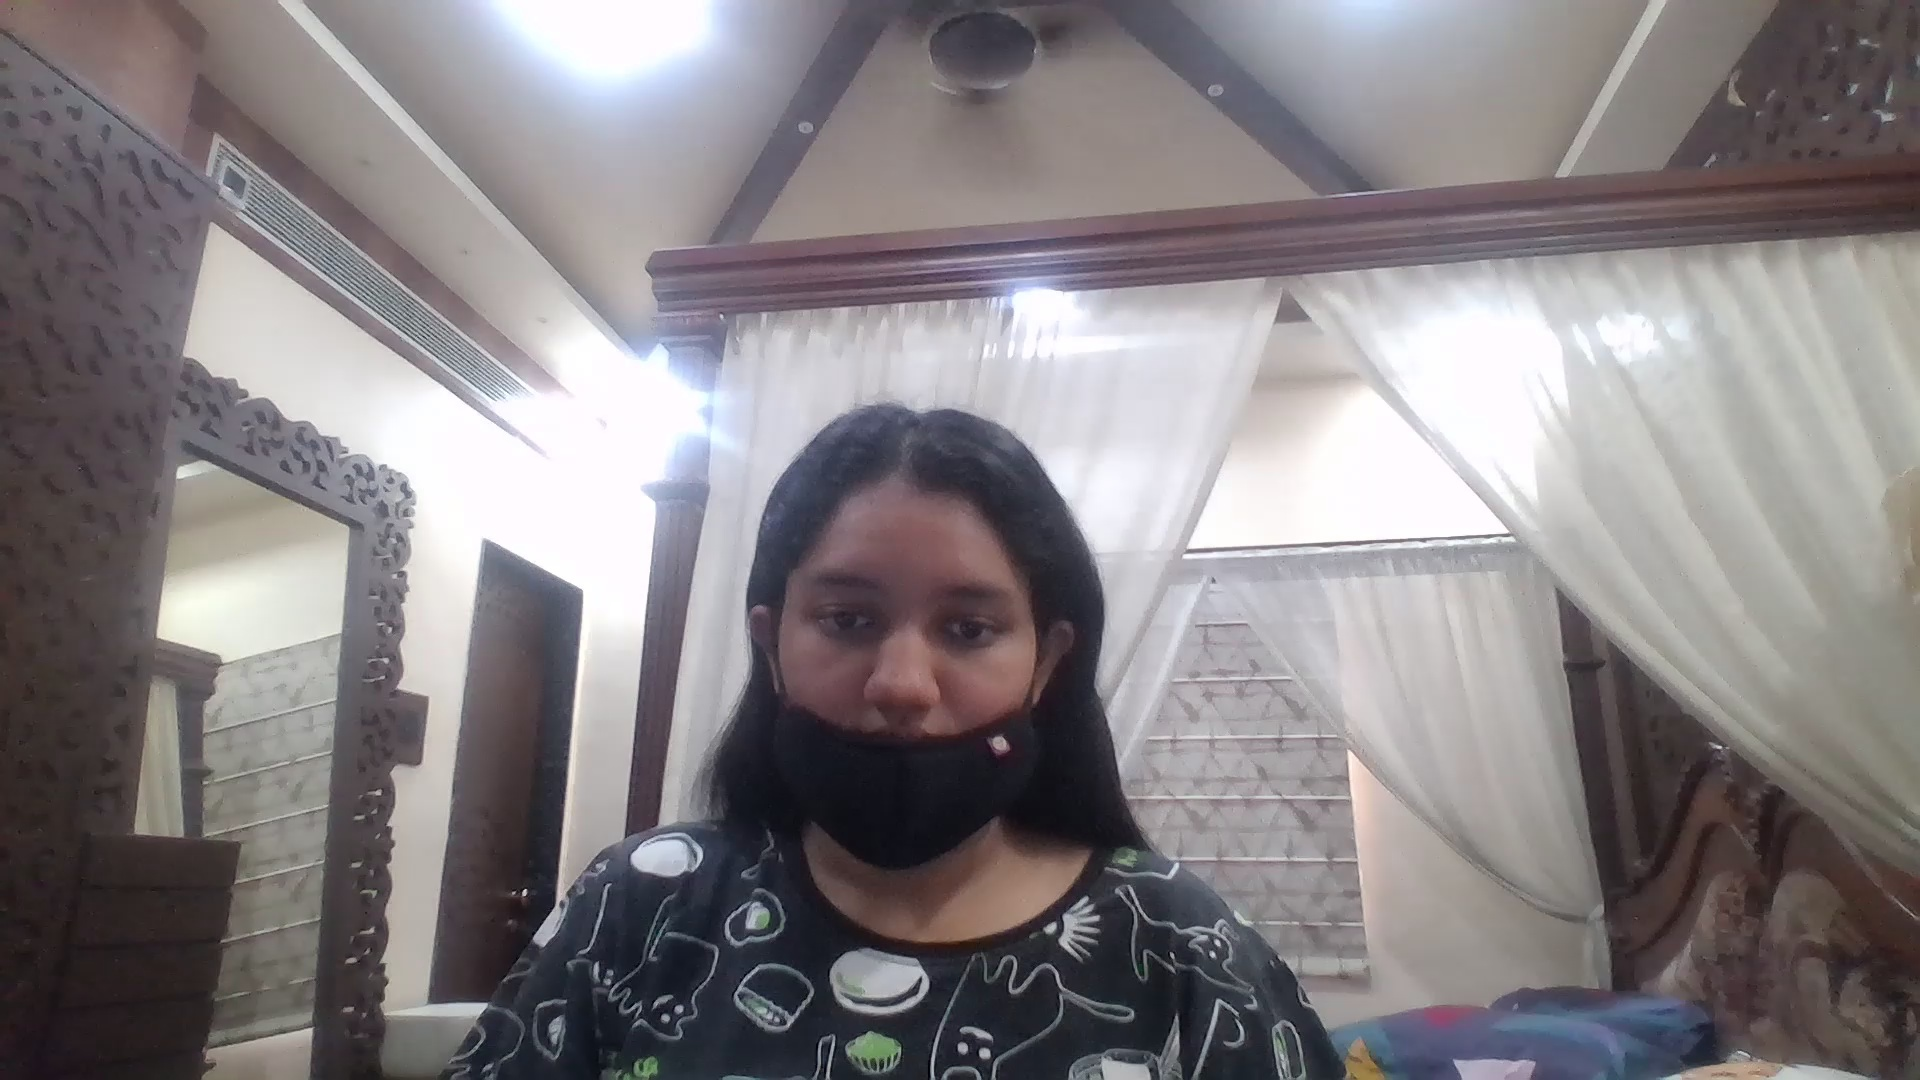Mask: (764, 658, 1023, 875)
